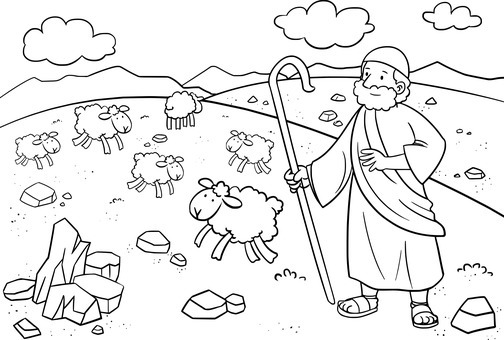person: (282, 43, 448, 333)
sheep: (188, 173, 286, 266), (72, 102, 132, 157), (128, 150, 185, 199), (222, 127, 276, 175), (12, 129, 61, 172), (162, 89, 205, 131)
